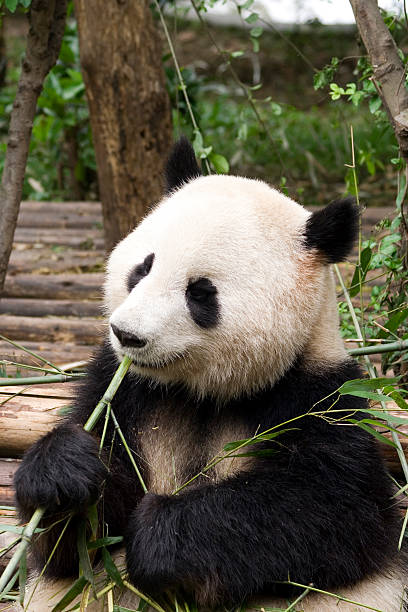panda: (63, 115, 381, 424)
